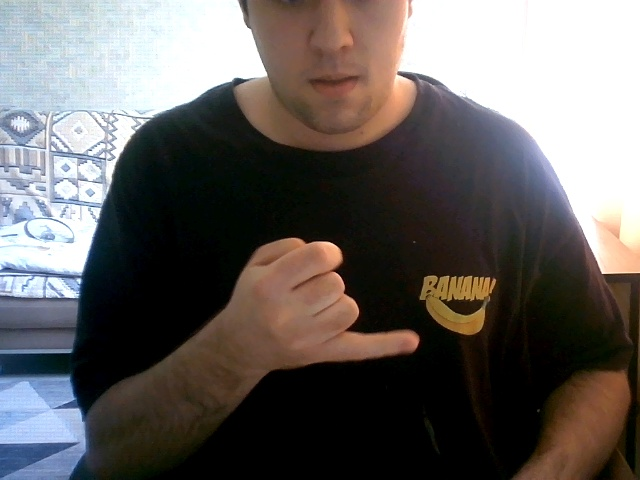bad: (200, 223, 427, 370)
